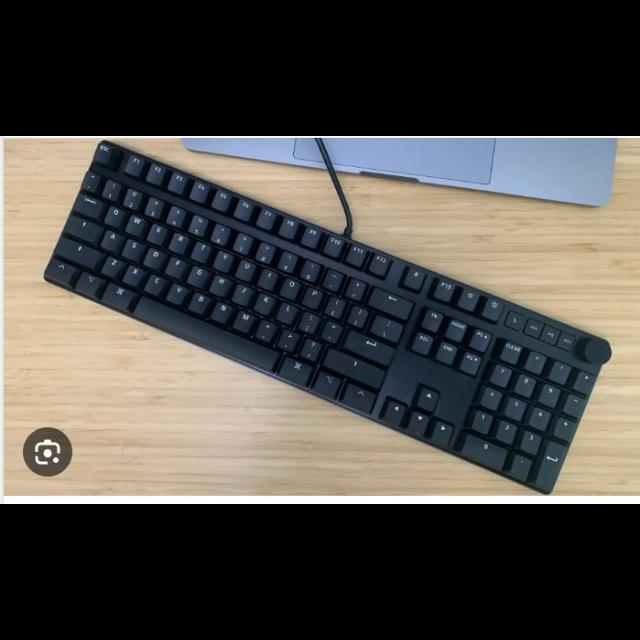Computer-Keyboard: (42, 141, 613, 497)
